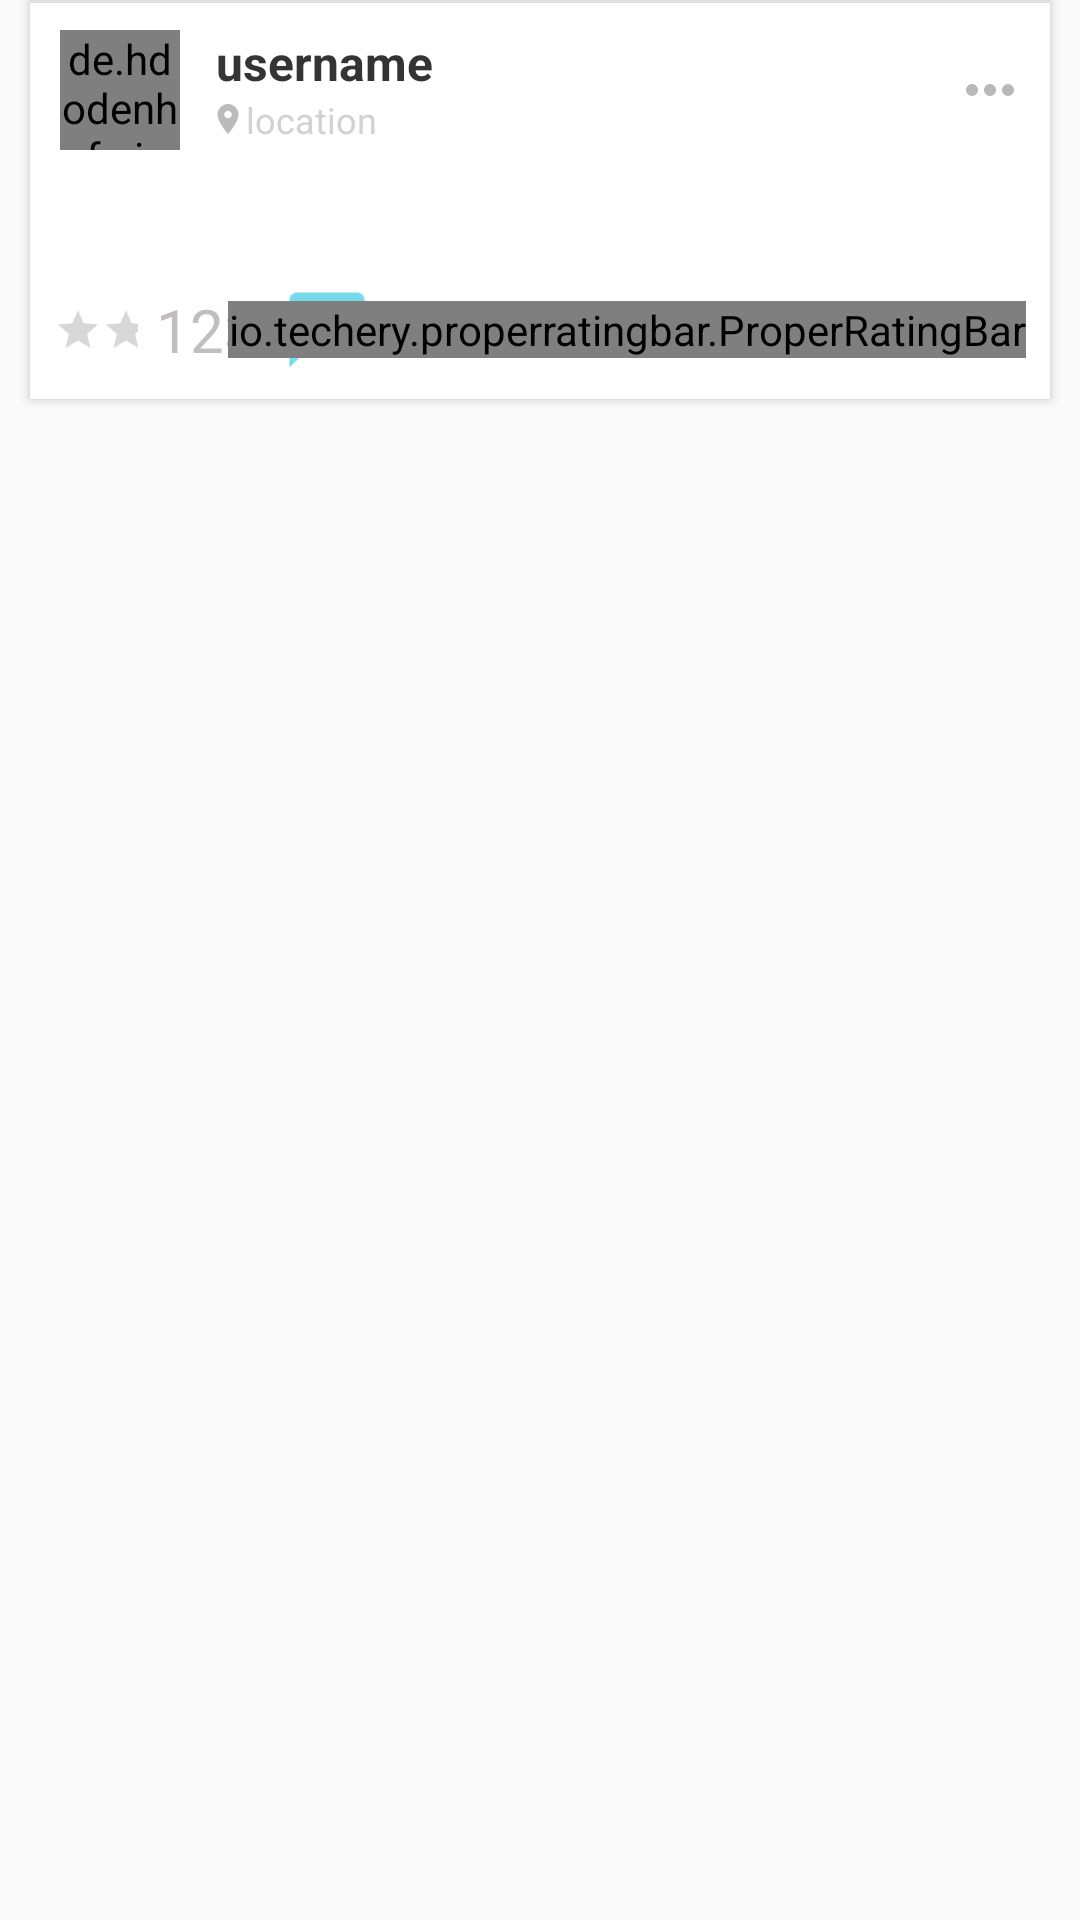

Where icons sit on this 1080 x 1920 app screen, as [left=x1, top=y1, right=x2, bottom=y2]:
options: [left=966, top=84, right=1014, bottom=96]
